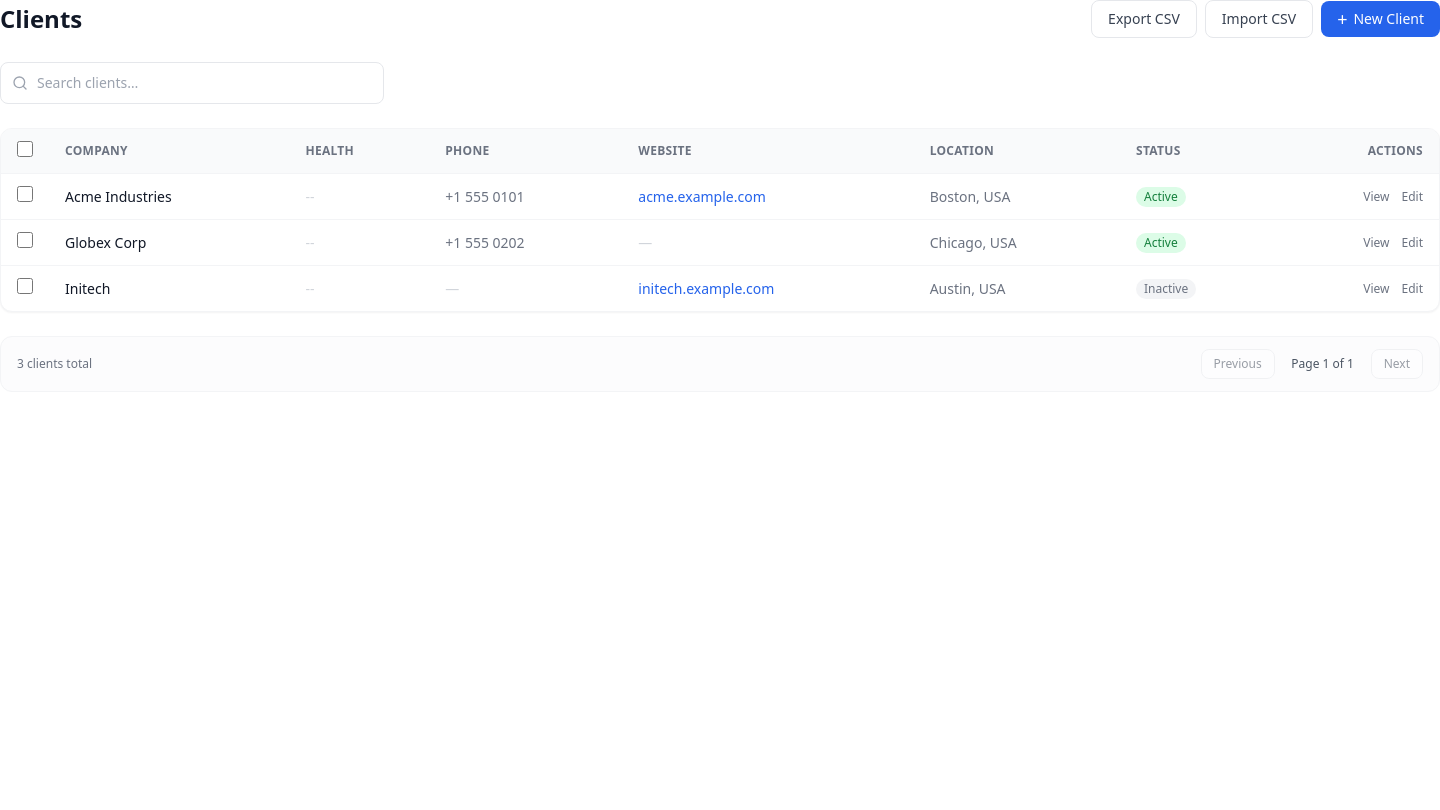
Test: Clients page › opens the import-CSV modal when "Import CSV" is clicked
Click the button "Import CSV" at (1259, 19), box [1205,0,1313,38]
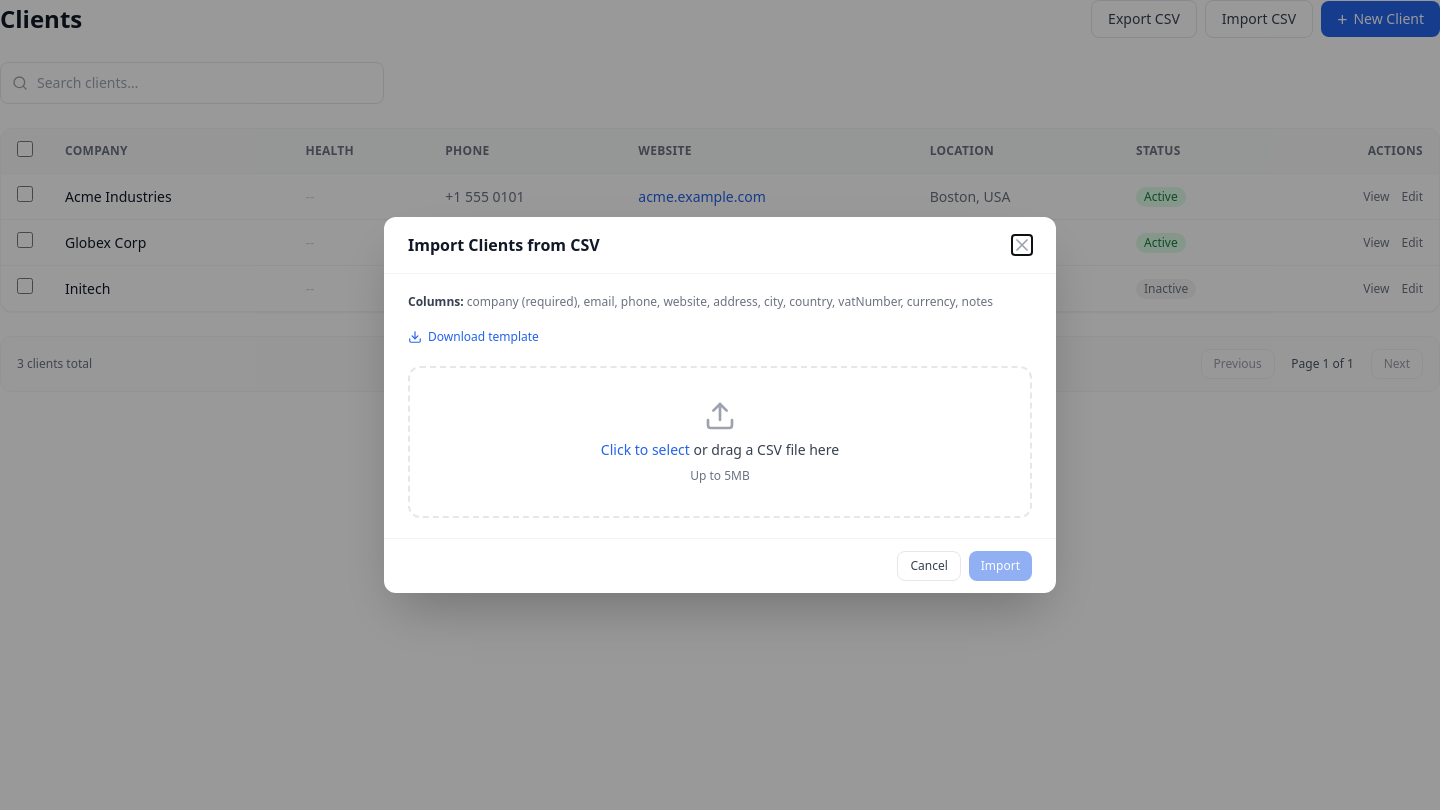
expect the dialog "Import Clients from CSV" is shown: met, box [384,217,1056,593]
